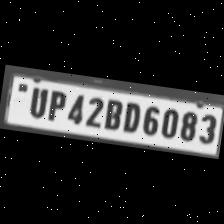0: (158, 104, 180, 140)
2: (82, 93, 106, 130)
3: (194, 110, 218, 146)
4: (63, 90, 87, 127)
6: (137, 103, 161, 139)
8: (176, 107, 200, 144)
B: (100, 96, 123, 132)
D: (119, 98, 142, 135)
P: (44, 87, 68, 123)
U: (24, 84, 48, 119)
